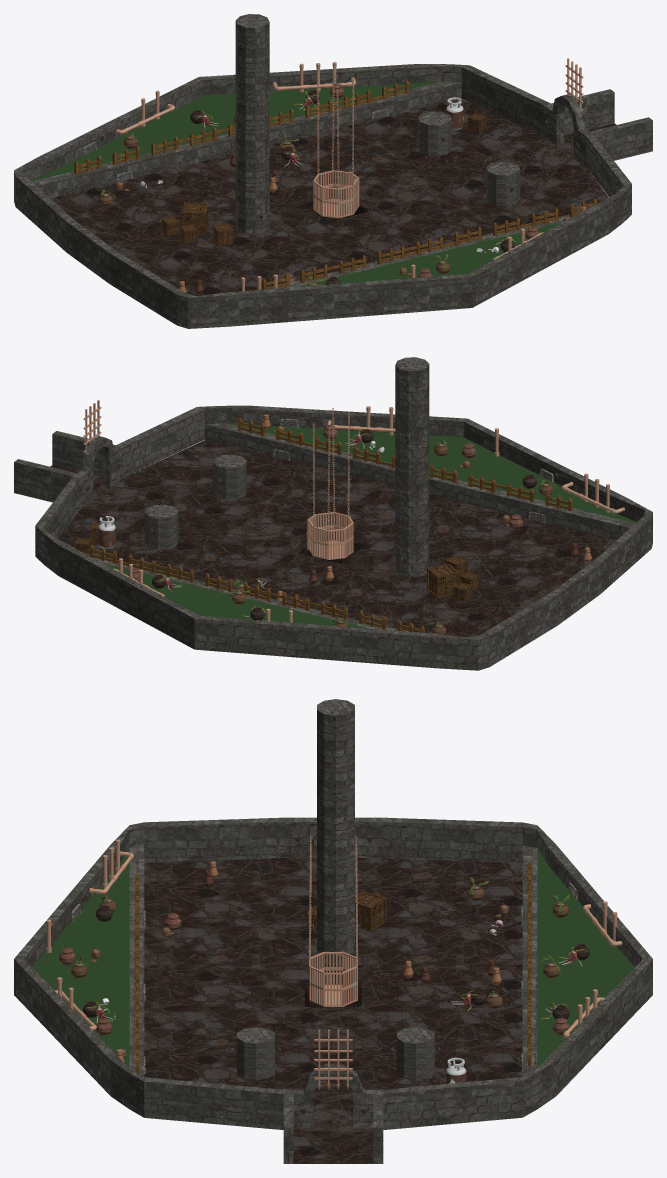
Rendered from room_end_placeholder.glb.
3 views of the same model, one above another, from view 1: azimuth 30°, elevation 25°; view 2: azimuth 150°, elevation 25°; view 3: azimuth 270°, elevation 25° (orthographic). The views are drawn at different scales.
Parts seen in each view (by area): view 1: Plane.001, floor, Cylinder.042, Elevator, Cube.002, Cube, Cylinder.002, Cylinder.001, gate.003; view 2: Plane.001, floor, Cylinder.042, Elevator, Cube, Cube.002, Cylinder.001, Cylinder.002, gate.003, Cylinder.046_cell.001; view 3: floor, Plane.001, Cylinder.042, Elevator, Cylinder.002, Cylinder.001, gate.003, Cube, Cube.002.
Boxes of the visible parts, x1=… form: Plane.001: x1=14, y1=64, x2=652, y2=328; floor: x1=50, y1=98, x2=616, y2=295; Cylinder.042: x1=235, y1=14, x2=269, y2=234; Elevator: x1=313, y1=66, x2=358, y2=218; Cube.002: x1=262, y1=198, x2=596, y2=289; Cube: x1=74, y1=80, x2=409, y2=174; Cylinder.002: x1=486, y1=161, x2=520, y2=206; Cylinder.001: x1=418, y1=111, x2=451, y2=156; gate.003: x1=565, y1=58, x2=583, y2=110; Plane.001: x1=14, y1=405, x2=652, y2=670; floor: x1=50, y1=440, x2=616, y2=637; Cylinder.042: x1=395, y1=357, x2=429, y2=577; Elevator: x1=308, y1=408, x2=353, y2=559; Cube: x1=90, y1=545, x2=424, y2=632; Cube.002: x1=237, y1=417, x2=572, y2=511; Cylinder.001: x1=144, y1=504, x2=178, y2=549; Cylinder.002: x1=213, y1=454, x2=246, y2=499; gate.003: x1=83, y1=400, x2=101, y2=452; Cylinder.046_cell.001: x1=98, y1=516, x2=115, y2=548; floor: x1=144, y1=858, x2=522, y2=1163; Plane.001: x1=14, y1=817, x2=652, y2=1163; Cylinder.042: x1=317, y1=699, x2=354, y2=956; Elevator: x1=308, y1=836, x2=358, y2=1006; Cylinder.002: x1=237, y1=1027, x2=274, y2=1080; Cylinder.001: x1=397, y1=1027, x2=434, y2=1080; gate.003: x1=314, y1=1029, x2=352, y2=1089; Cube: x1=527, y1=862, x2=531, y2=1066; Cube.002: x1=135, y1=874, x2=139, y2=1073.
Size of the model in its own units: 36.74 by 19.06 by 32.
20 materials, 20 textured.
